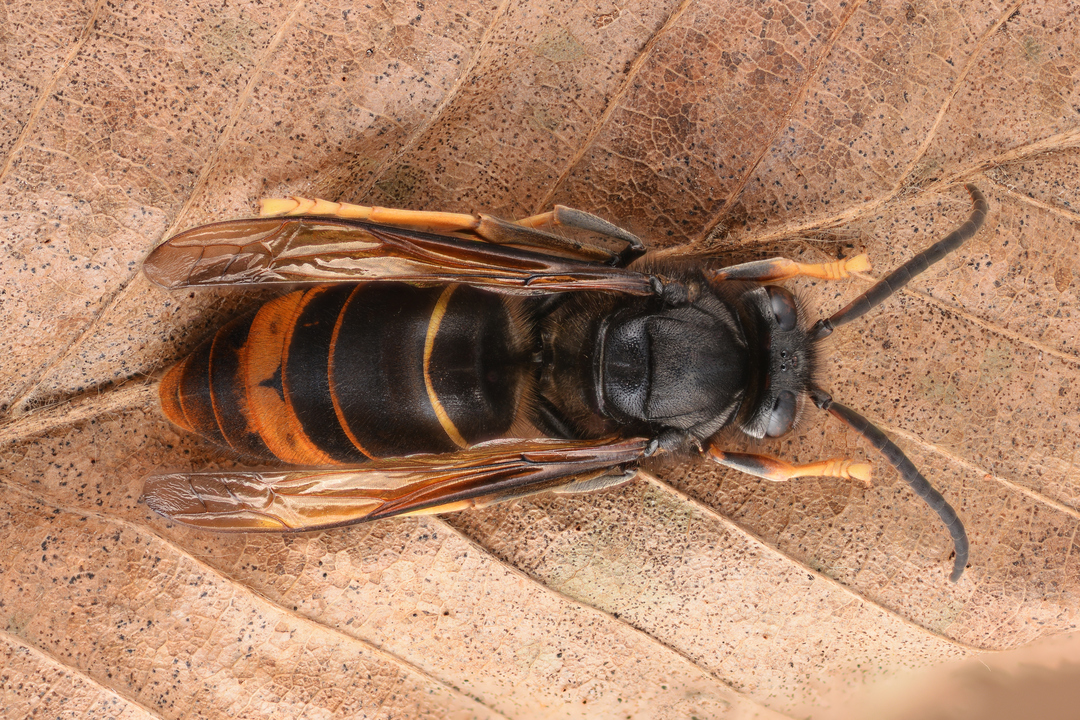hornet: (122, 184, 1012, 588)
